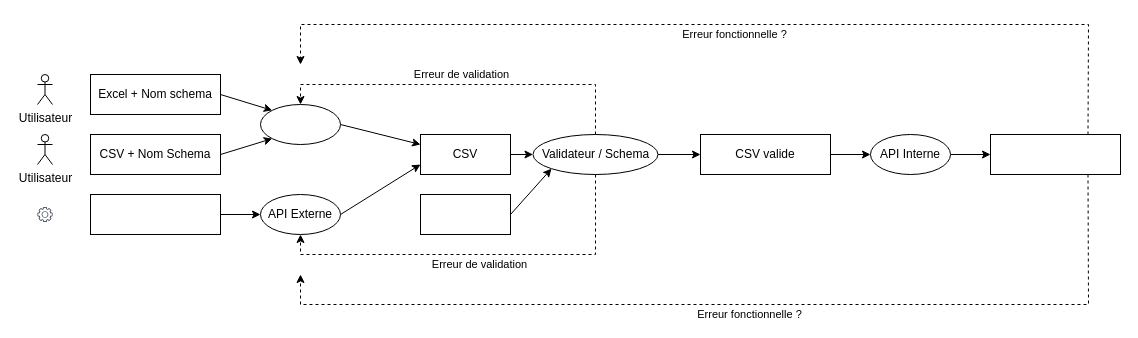
This 1138x338 diagram has some shape labels left out. Here are the shapes that lost their labels. From the top down, the centre of each, then its label:
(x=300, y=124): UI d'import
(x=1055, y=154): Base de données
(x=44, y=214): SI Externe
(x=155, y=214): JSON + Nom Schema
(x=465, y=214): TableSchema
